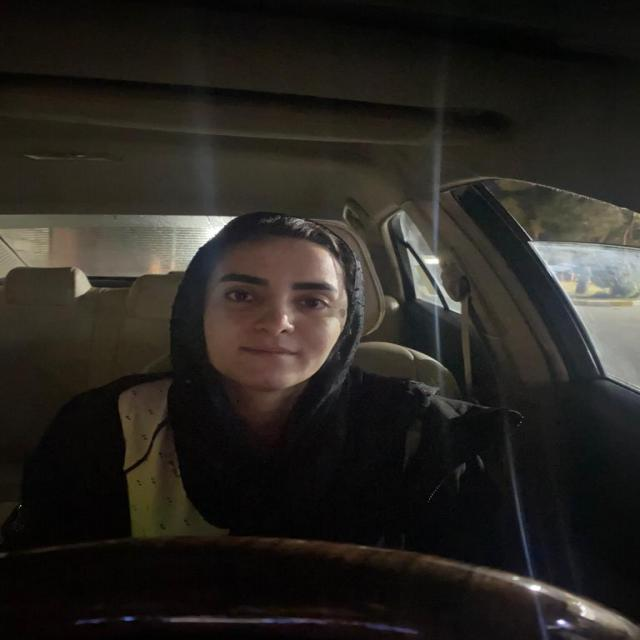person: (173, 208, 369, 405)
